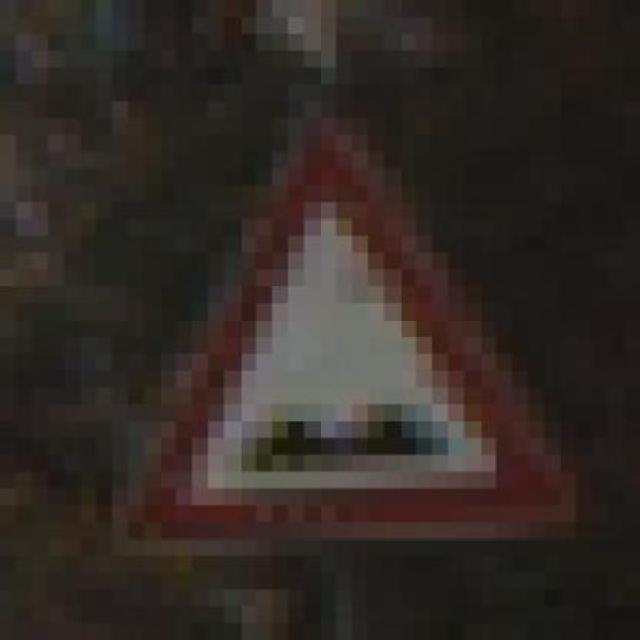Uneven Road: (96, 101, 576, 556)
